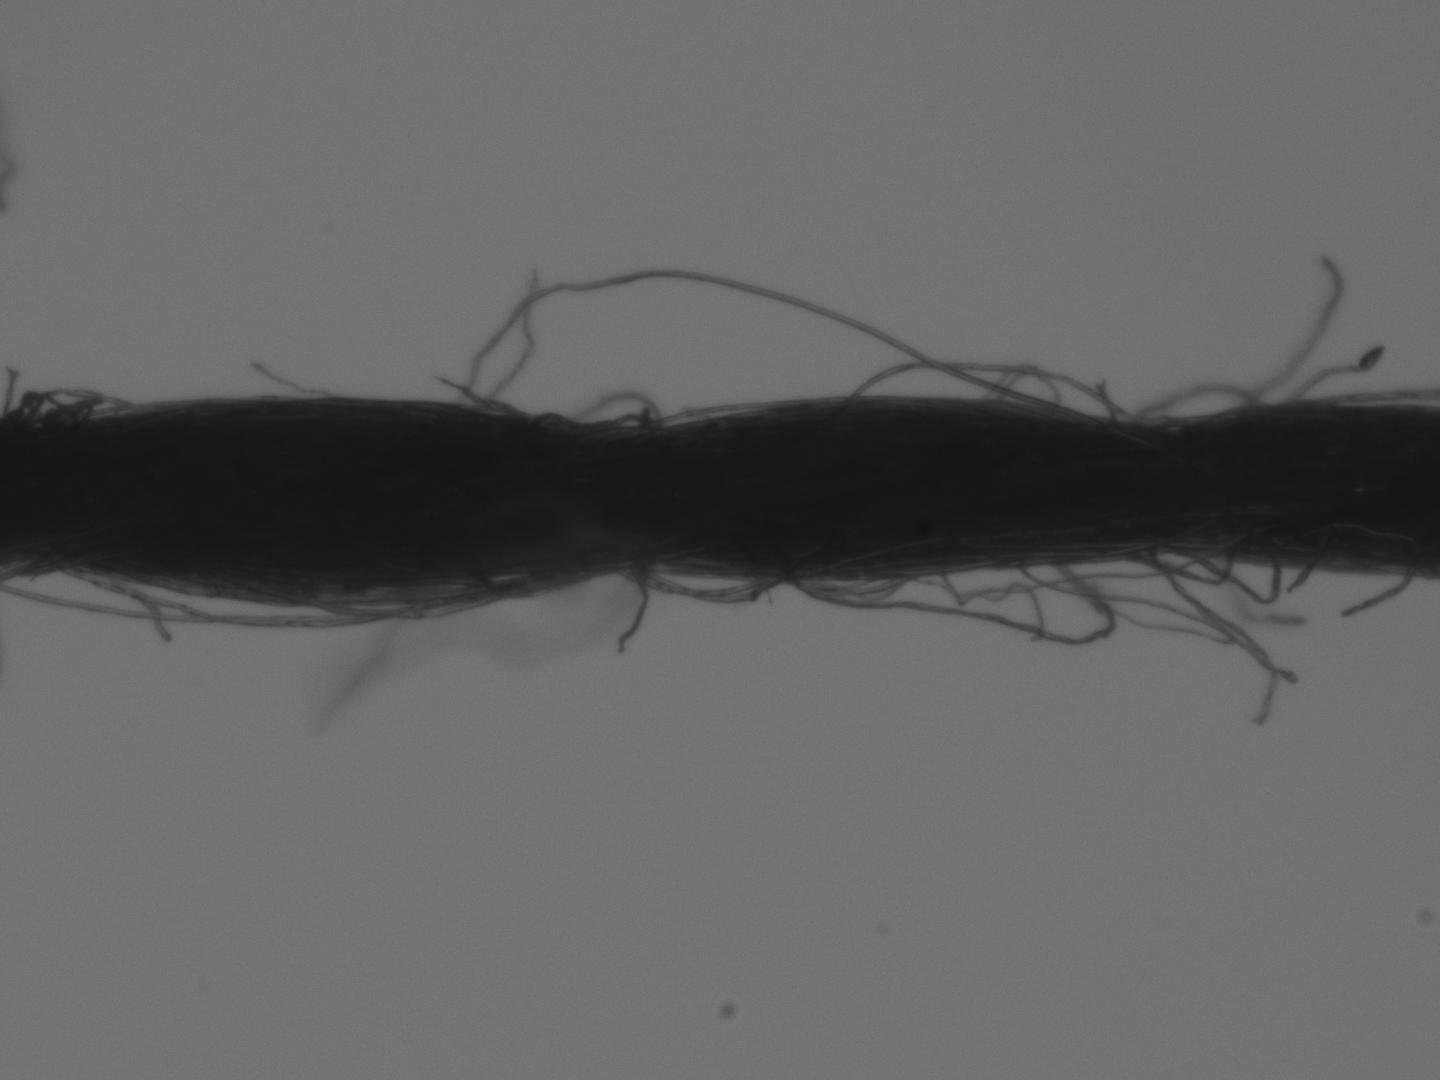loop_fiber: (454, 271, 1078, 421), (798, 562, 1117, 646), (63, 571, 468, 631), (845, 356, 1128, 424), (305, 572, 542, 623), (613, 564, 799, 608), (1181, 543, 1281, 606), (1135, 386, 1257, 423), (2, 385, 124, 422), (981, 361, 1056, 414), (791, 574, 897, 607), (579, 391, 664, 430), (1132, 548, 1226, 581), (528, 411, 654, 431)
protruding_fiber: (1231, 248, 1344, 405), (1336, 577, 1418, 630), (615, 563, 657, 657)
